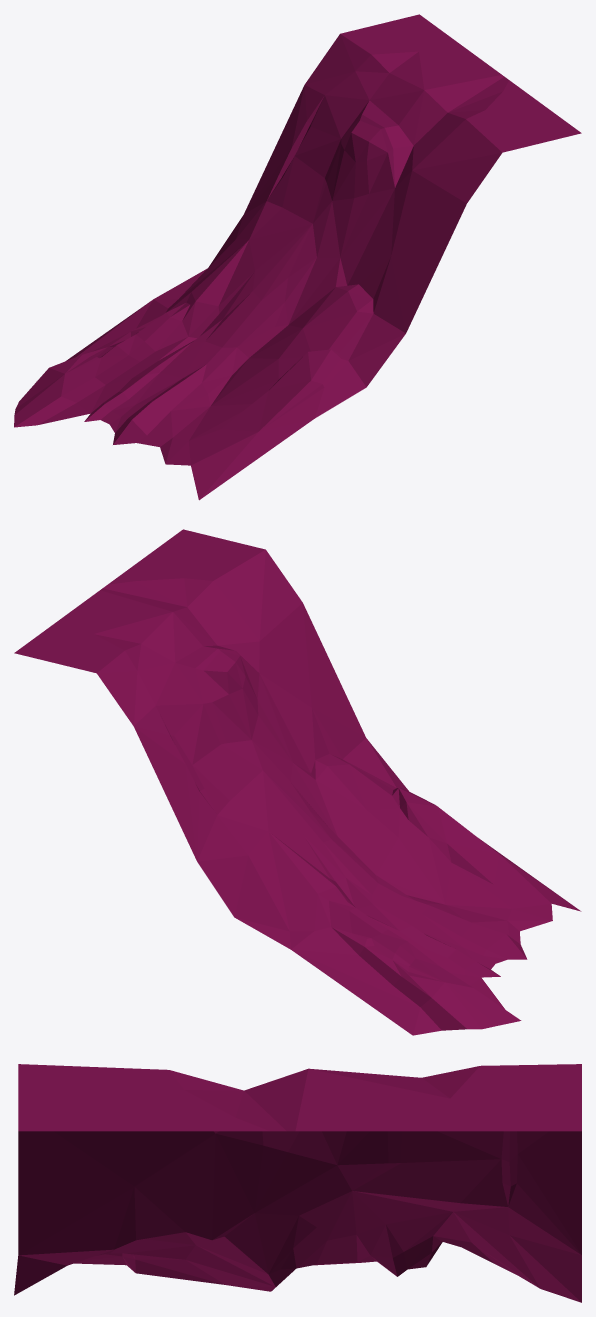
The model's file is 20C_rock_BigWall_01_1.fbx.
3 renders of one model, top to bottom at view 1: azimuth 30°, elevation 25°; view 2: azimuth 150°, elevation 25°; view 3: azimuth 270°, elevation 25°, orthographic. The views are drawn at different scales.
Parts seen in each view (by area): view 1: 20C_rock_BigWall_01_1; view 2: 20C_rock_BigWall_01_1; view 3: 20C_rock_BigWall_01_1.
Part boxes in pixels (box(x1,y1,x2,y2)): 20C_rock_BigWall_01_1: box(14, 14, 581, 500); 20C_rock_BigWall_01_1: box(14, 529, 581, 1035); 20C_rock_BigWall_01_1: box(14, 1064, 581, 1302).
Size of the model in its own units: 127 by 74.55 by 80.6.
